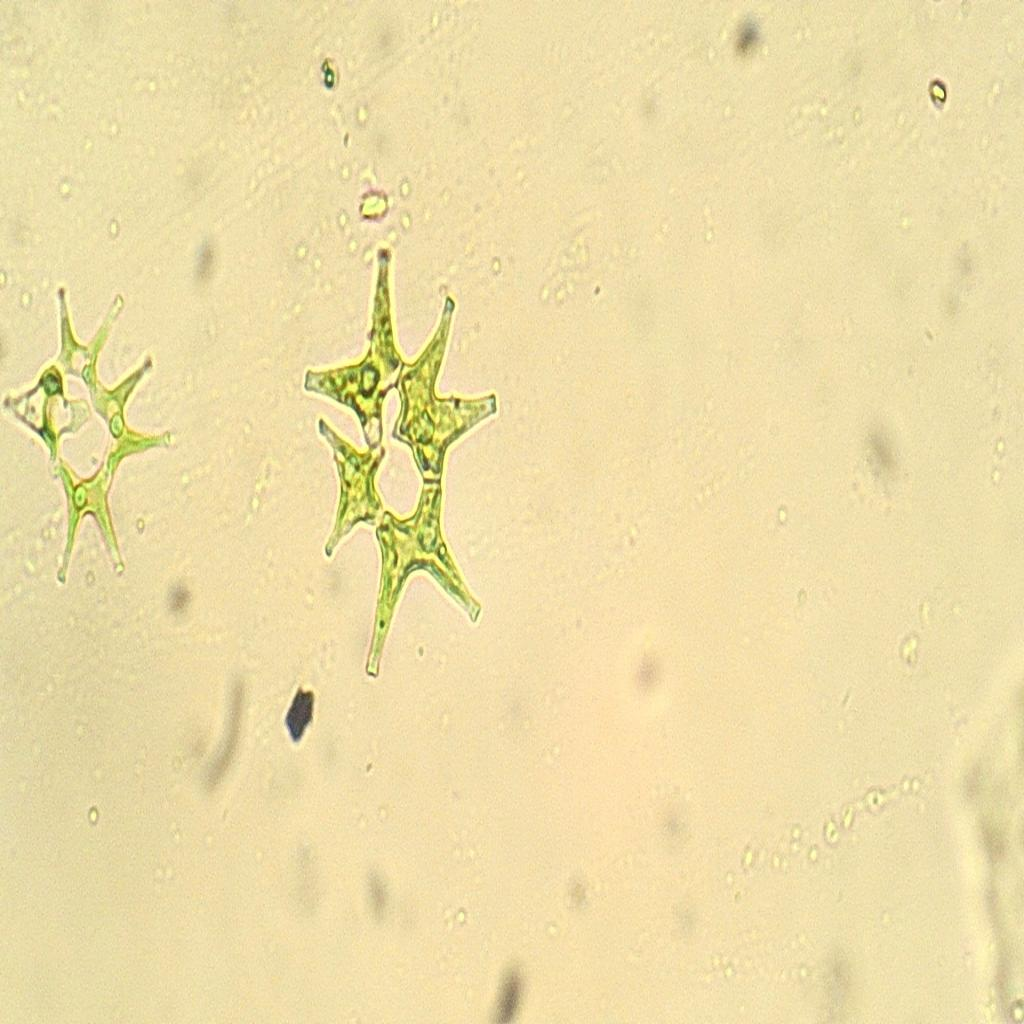Pediastrum_75FO: (296, 228, 505, 686)
